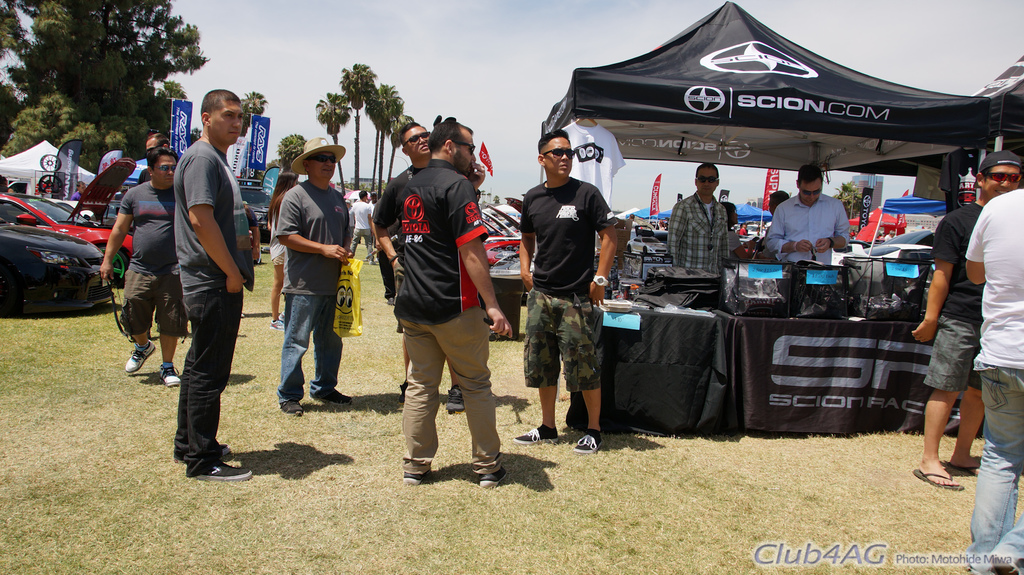Car: (5, 193, 136, 281), (236, 182, 268, 232)
